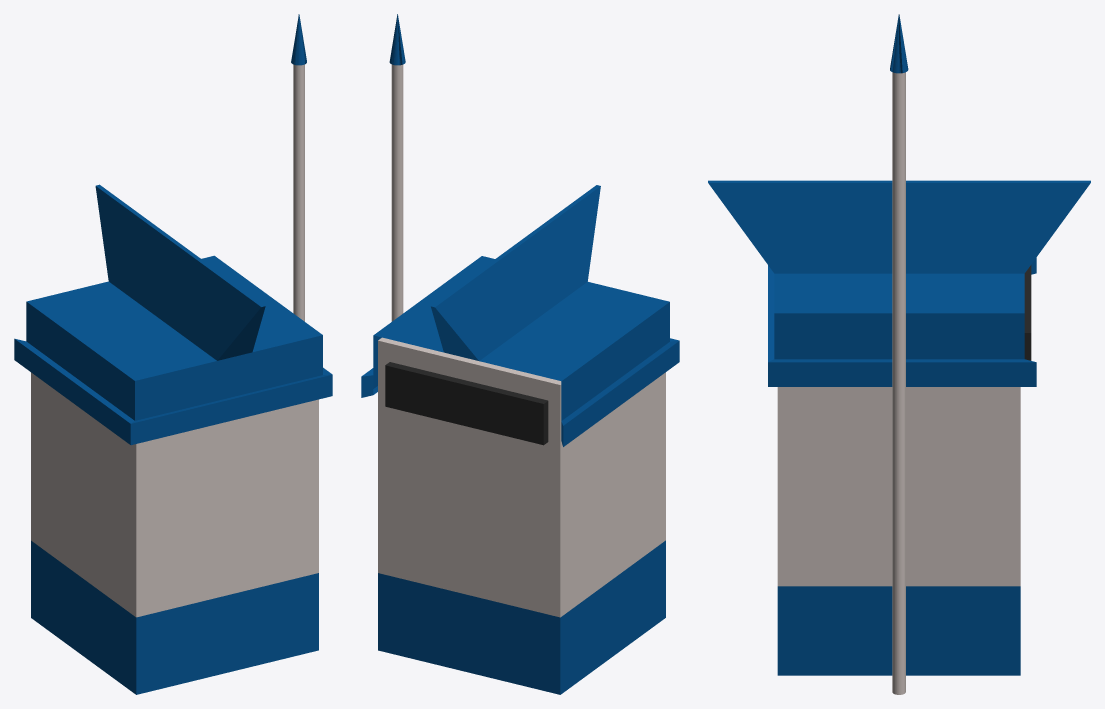
File: Warrior.fbx
The picture shows the model from 3 angles, left to right: view 1: azimuth 30°, elevation 25°; view 2: azimuth 150°, elevation 25°; view 3: azimuth 270°, elevation 25°; orthographic projection. The views are drawn at different scales.
Parts seen in each view (by area): view 1: Cube, Cylinder; view 2: Cube, Cylinder; view 3: Cube, Cylinder.
Boxes of the visible parts, bbox=[...] form: Cube: bbox=[14, 184, 332, 694]; Cylinder: bbox=[291, 14, 306, 321]; Cube: bbox=[361, 185, 679, 694]; Cylinder: bbox=[389, 14, 405, 321]; Cube: bbox=[708, 180, 1090, 675]; Cylinder: bbox=[890, 14, 908, 694].
Bounding box in the file's own units: 254 × 617 × 315.
